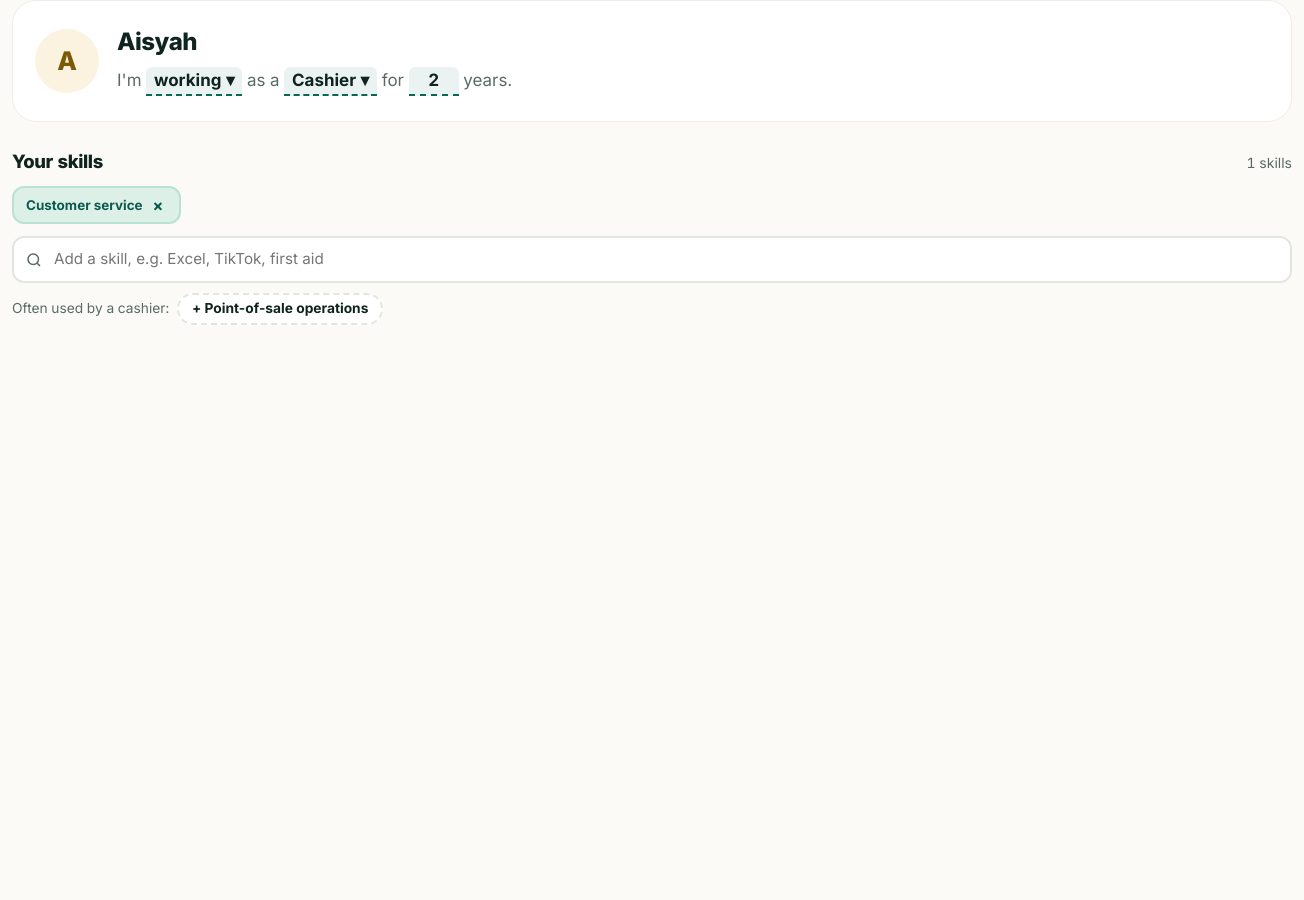
My profile › finds a skill by its nickname and shows one save bar until saved or undone
Expected: the list item "Customer service" is shown, [26, 197, 143, 213]
Type "vlookup" into the dropdown labelled "Add a skill" at (652, 260), box [12, 236, 1292, 283]
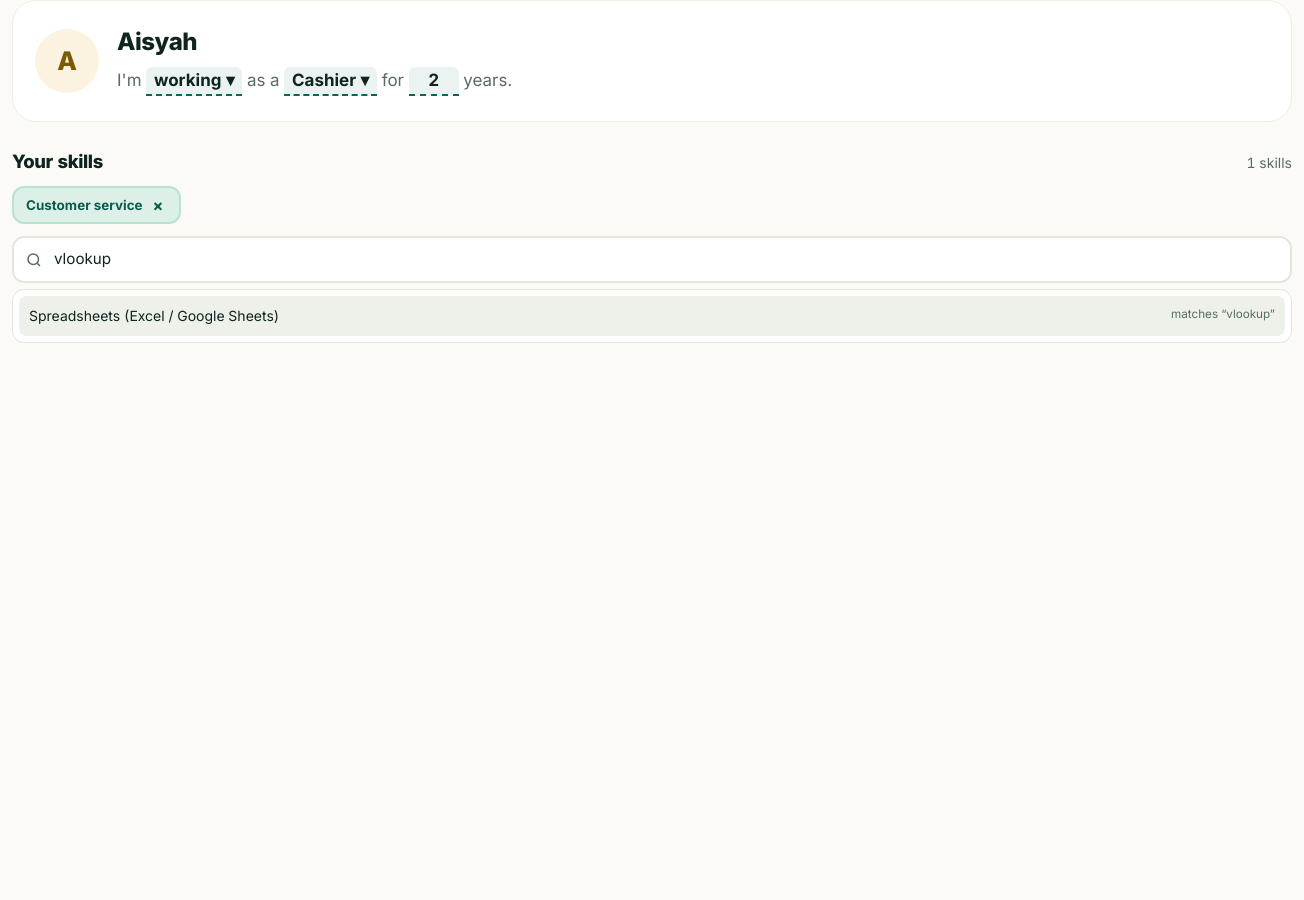
Click the option "Spreadsheets (Excel / Google Sheets) matches “vlookup”" at (154, 315), box [19, 296, 1285, 336]
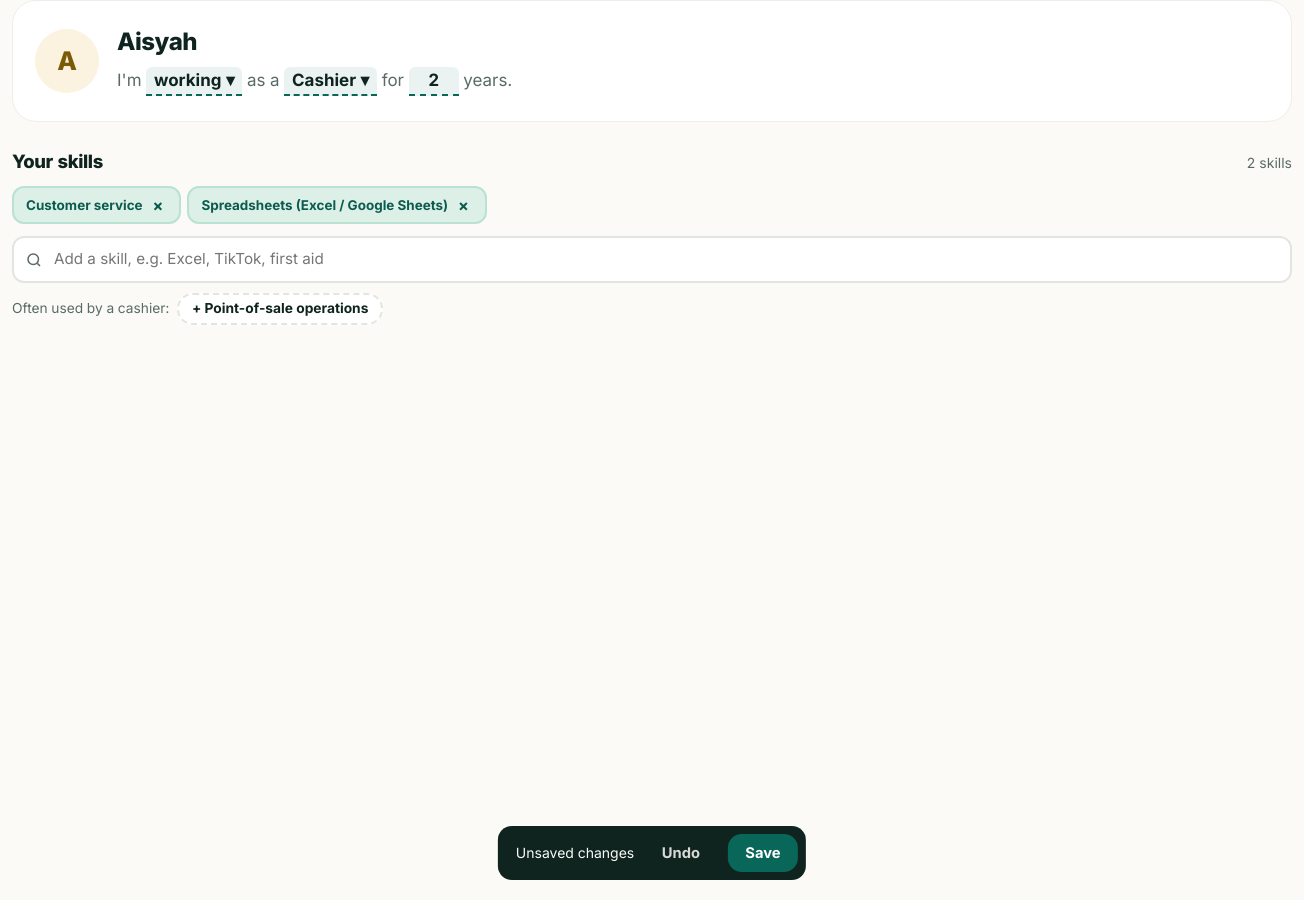
Now the list item "Spreadsheets (Excel / Google Sheets)" is shown, box [202, 197, 448, 213]
Now the text "Unsaved changes" is shown, box [516, 842, 634, 864]
Click the button "Undo" at (681, 853), box [644, 834, 718, 872]
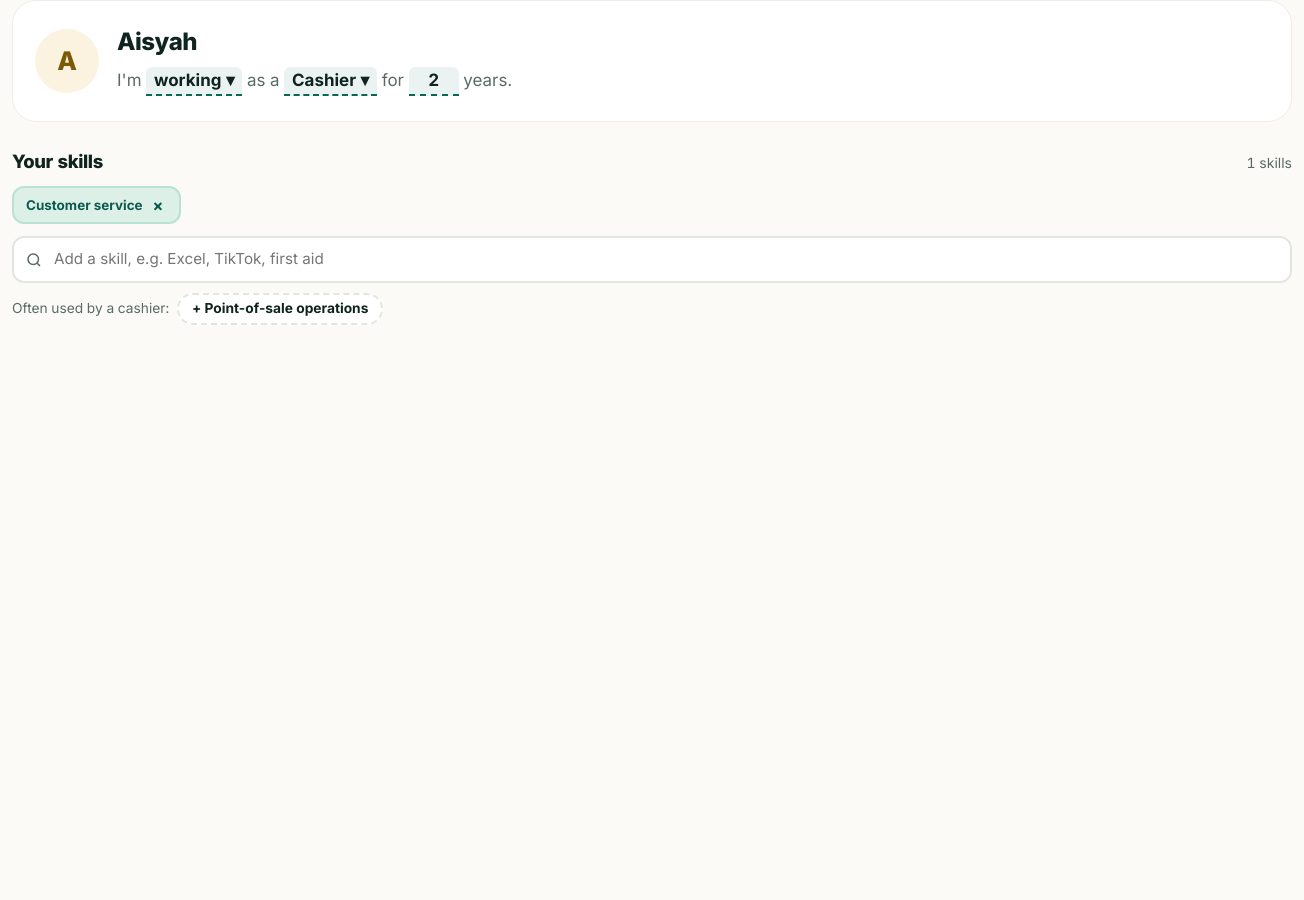
Now the text "Unsaved changes" is gone
Now the list item "Spreadsheets (Excel / Google Sheets)" is gone
